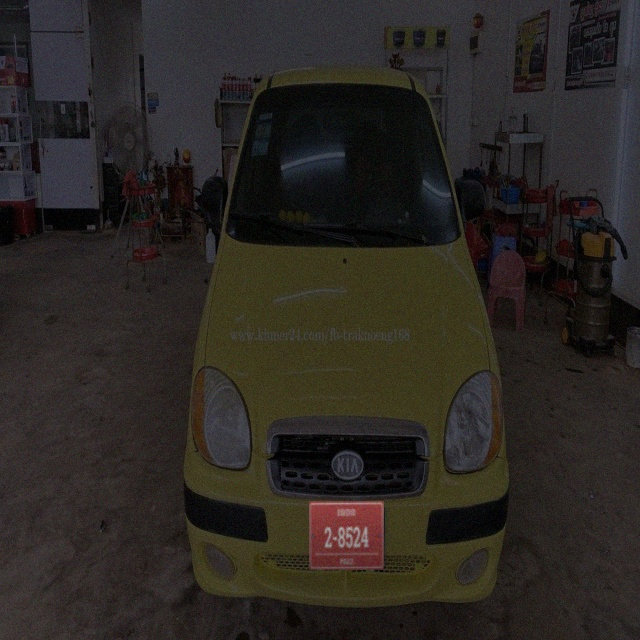Plate Number: (309, 502, 385, 570)
